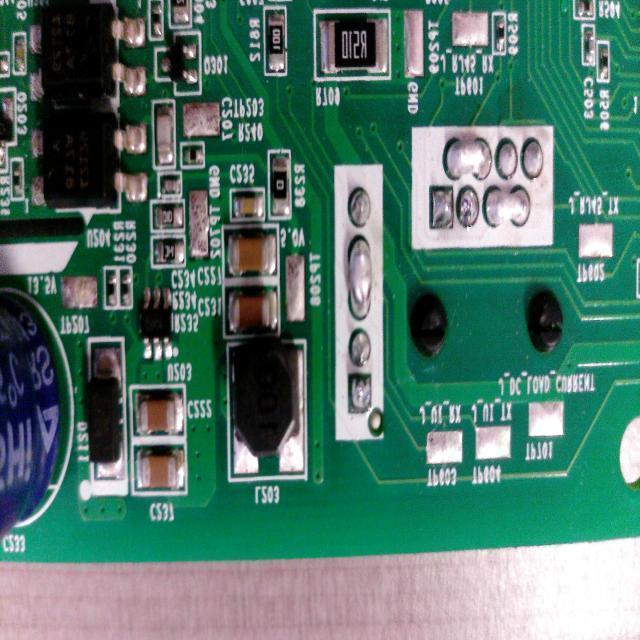Soldering shorted: (440, 133, 495, 185), (346, 229, 374, 325), (481, 182, 532, 234)
